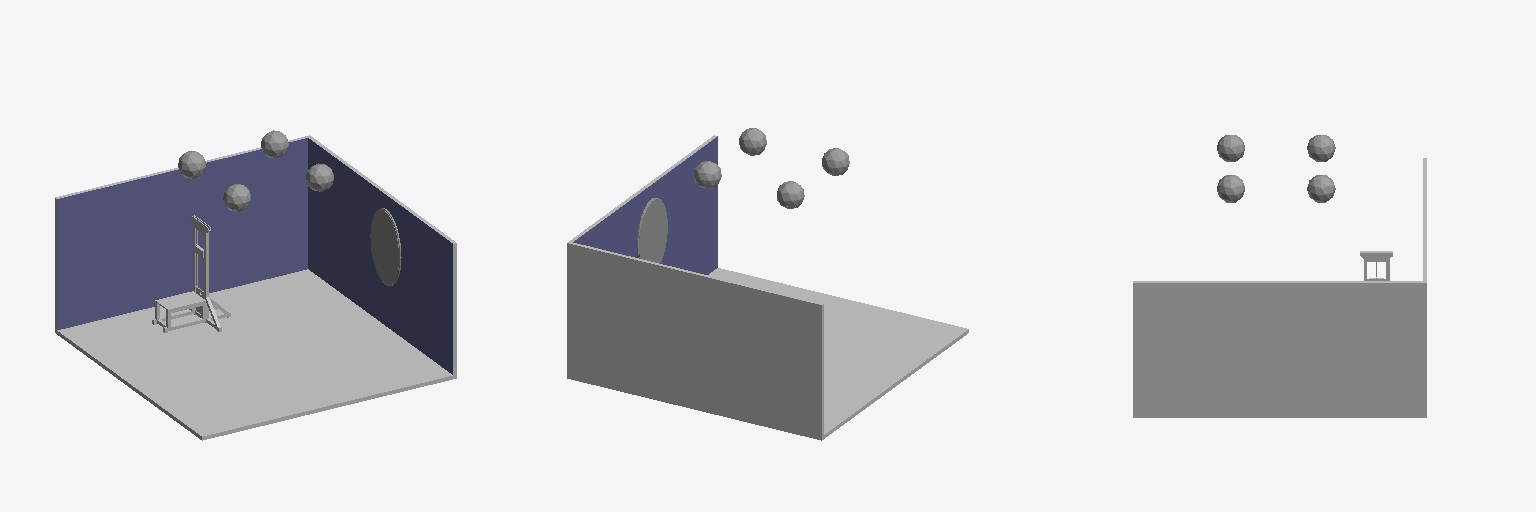
Rendered from museum.obj.
3 views of the same model, side by side, from view 1: azimuth 30°, elevation 25°; view 2: azimuth 150°, elevation 25°; view 3: azimuth 270°, elevation 25° (orthographic).
Parts seen in each view (by area): view 1: Plane, Guillotine, Circle.001, Icosphere.003, Icosphere.002, Icosphere.001, Icosphere; view 2: Plane, Circle.001, Icosphere, Icosphere.003, Icosphere.002, Icosphere.001; view 3: Plane, Icosphere, Icosphere.003, Icosphere.001, Icosphere.002, Guillotine.
Part boxes in pixels (x1,y1,x2,y2): Plane: (55, 135, 456, 440); Guillotine: (152, 215, 230, 332); Circle.001: (370, 209, 398, 284); Icosphere.003: (306, 163, 333, 191); Icosphere.002: (223, 184, 250, 211); Icosphere.001: (178, 151, 205, 178); Icosphere: (261, 130, 288, 158); Plane: (567, 135, 968, 440); Circle.001: (639, 199, 667, 263); Icosphere: (694, 161, 721, 188); Icosphere.003: (739, 128, 766, 155); Icosphere.002: (822, 148, 849, 175); Icosphere.001: (777, 181, 804, 208); Plane: (1133, 158, 1426, 417); Icosphere: (1307, 175, 1335, 202); Icosphere.003: (1217, 175, 1244, 202); Icosphere.001: (1307, 135, 1335, 161); Icosphere.002: (1217, 135, 1244, 161); Guillotine: (1360, 251, 1392, 280).
Size of the model in its own units: 10.15 by 7.58 by 10.15.